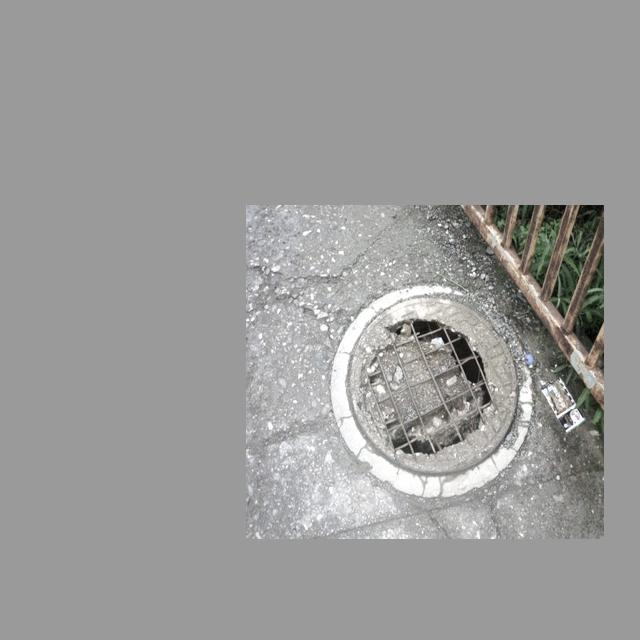broke: (330, 283, 530, 500)
